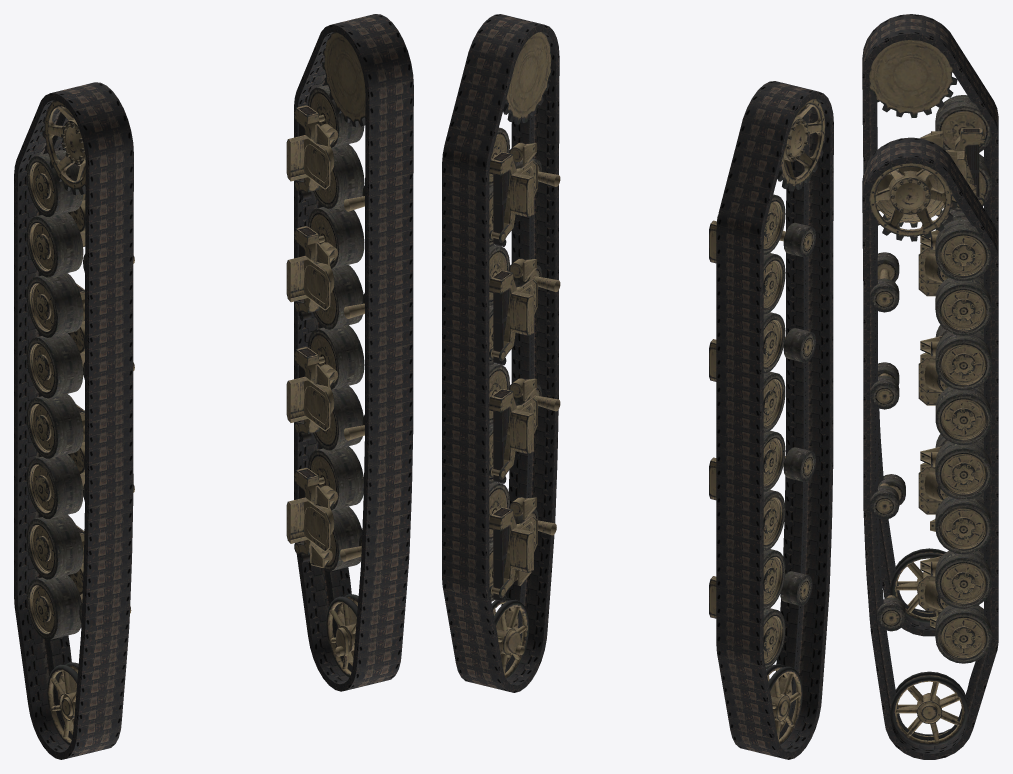
Rendered from Chassis.glb.
The picture shows the model from 3 angles, left to right: view 1: azimuth 30°, elevation 25°; view 2: azimuth 150°, elevation 25°; view 3: azimuth 270°, elevation 25°; orthographic projection. The views are drawn at different scales.
Parts seen in each view (by area): view 1: set_0_group_0, set_1_group_0, set_3_group_0, set_2_group_0; view 2: set_0_group_0, set_1_group_0, set_3_group_0, set_2_group_0; view 3: set_3_group_0, set_1_group_0, set_2_group_0, set_0_group_0.
Part boxes in pixels (x1,y1,x2,y2): set_0_group_0: (14, 82, 133, 759); set_1_group_0: (294, 14, 413, 691); set_3_group_0: (286, 32, 365, 677); set_2_group_0: (26, 100, 134, 745); set_0_group_0: (716, 81, 833, 759); set_1_group_0: (442, 14, 559, 692); set_3_group_0: (489, 32, 560, 679); set_2_group_0: (709, 99, 825, 745); set_3_group_0: (869, 163, 991, 746); set_1_group_0: (862, 137, 998, 759); set_2_group_0: (869, 40, 991, 622); set_0_group_0: (862, 14, 998, 636).
Bounding box in the file's own units: 2.84 × 5.58 × 1.14.
4 materials, 4 textured.
